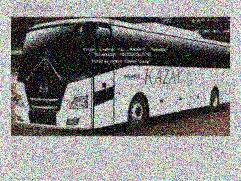bus: (19, 16, 228, 132)
